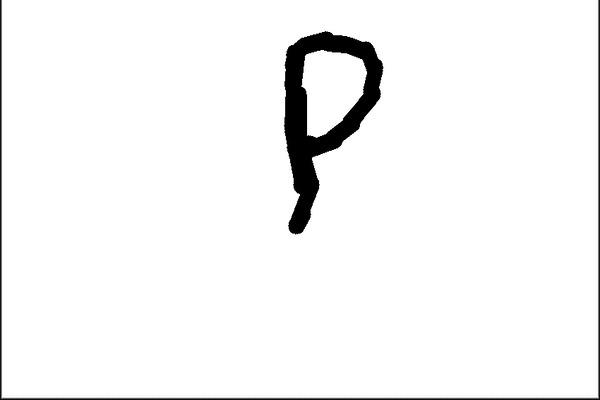P: (270, 21, 389, 247)
